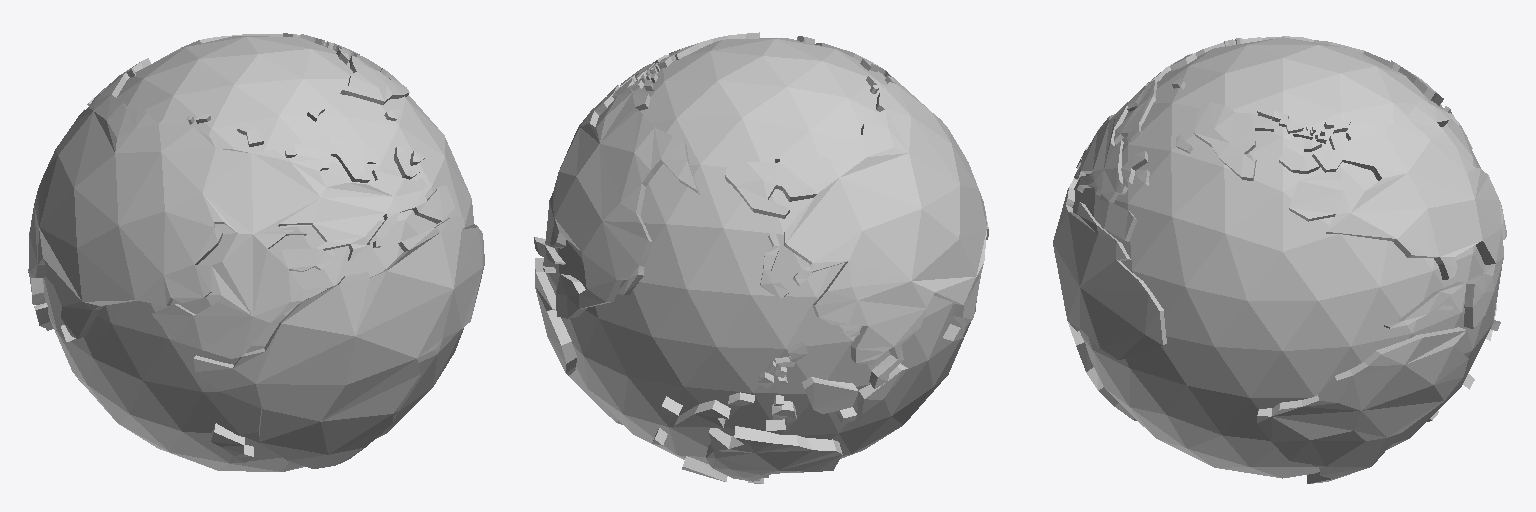
Rendered from globe_white.obj.
The picture shows the model from 3 angles: view 1: azimuth 30°, elevation 25°; view 2: azimuth 150°, elevation 25°; view 3: azimuth 270°, elevation 25°; orthographic projection.
Parts seen in each view (by area): view 1: GeoSphere004.001, GeoSphere004.000_GeoSphere004.002; view 2: GeoSphere004.000_GeoSphere004.002, GeoSphere004.001; view 3: GeoSphere004.000_GeoSphere004.002, GeoSphere004.001.
Boxes of the visible parts, box(x1,y1,x2,y2) form: GeoSphere004.001: box(28, 33, 484, 468); GeoSphere004.000_GeoSphere004.002: box(43, 36, 473, 471); GeoSphere004.000_GeoSphere004.002: box(543, 38, 976, 472); GeoSphere004.001: box(534, 32, 988, 483); GeoSphere004.000_GeoSphere004.002: box(1072, 37, 1502, 478); GeoSphere004.001: box(1053, 36, 1506, 483).
Size of the model in its own units: 96.38 by 94.38 by 97.22.